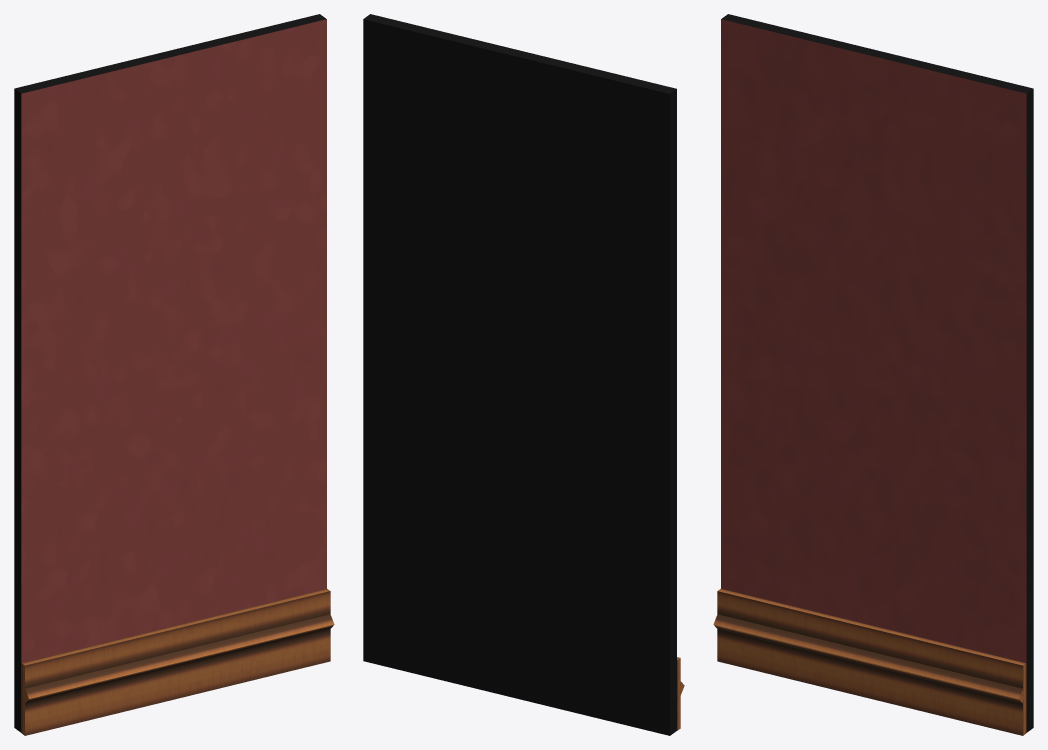
File: Wall_A_2_5_04.FBX
3 renders of one model, left to right at view 1: azimuth 30°, elevation 25°; view 2: azimuth 150°, elevation 25°; view 3: azimuth 330°, elevation 25°, orthographic.
Visible parts, largest first — view 1: Wall_Plain_2p5m001; view 2: Wall_Plain_2p5m001; view 3: Wall_Plain_2p5m001.
Part boxes in pixels (x1=…): Wall_Plain_2p5m001: x1=14, y1=14, x2=334, y2=735; Wall_Plain_2p5m001: x1=363, y1=14, x2=684, y2=735; Wall_Plain_2p5m001: x1=713, y1=14, x2=1033, y2=735.
Size of the model in its own units: 250 by 500 by 20.83.
